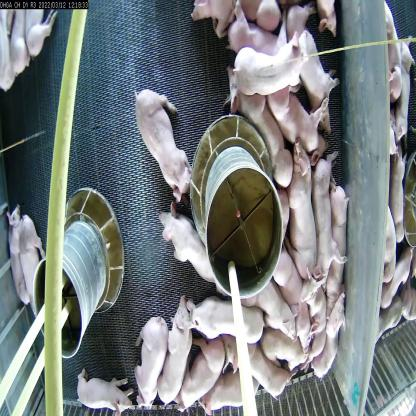Pig: (128, 74, 196, 218), (156, 189, 224, 296), (278, 102, 319, 278), (244, 47, 310, 148), (12, 209, 60, 339), (287, 0, 333, 132), (226, 17, 304, 89), (226, 322, 292, 401), (231, 96, 289, 185), (187, 281, 255, 343), (179, 327, 225, 415), (234, 0, 296, 65), (134, 311, 172, 410), (314, 140, 338, 290), (249, 266, 299, 338), (267, 226, 304, 313), (201, 368, 269, 415), (165, 303, 194, 409), (320, 290, 350, 386), (327, 169, 346, 314), (2, 201, 30, 295), (259, 323, 314, 369), (80, 373, 139, 415), (23, 0, 60, 56), (6, 11, 32, 77), (305, 280, 326, 361)
